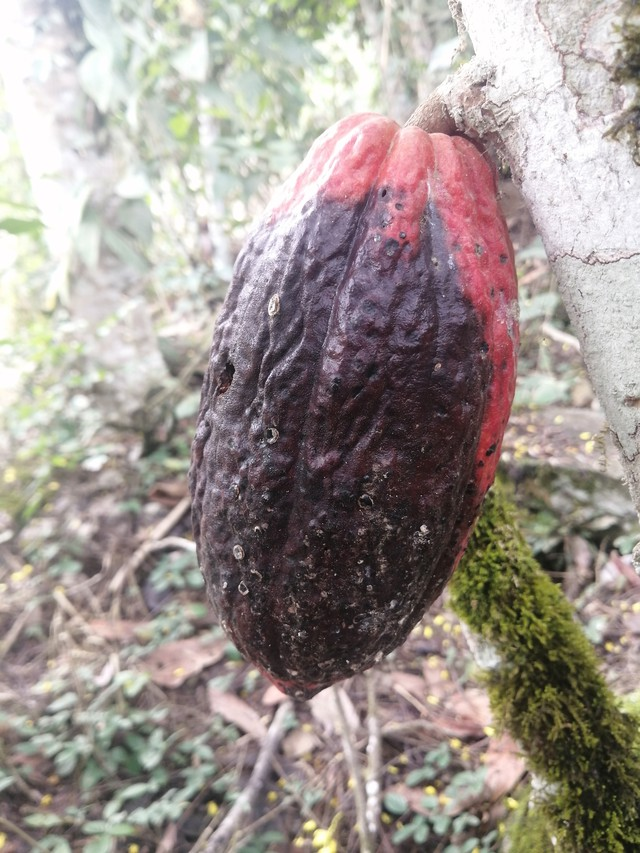carmenta foraseminis: (185, 108, 527, 710)
